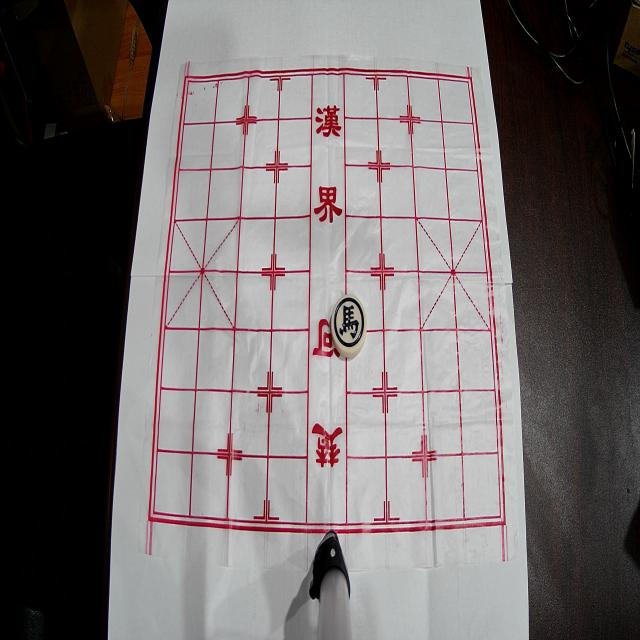black-horse: (331, 294, 367, 358)
